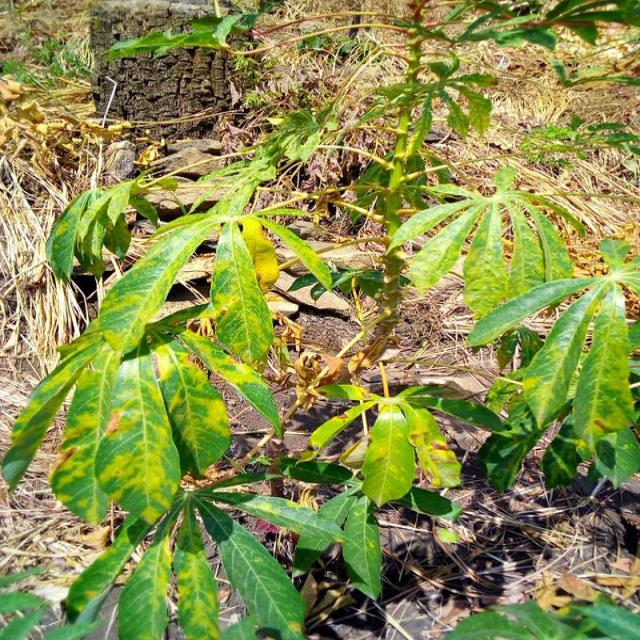cassava leaf: (208, 216, 274, 367), (360, 401, 416, 508)
